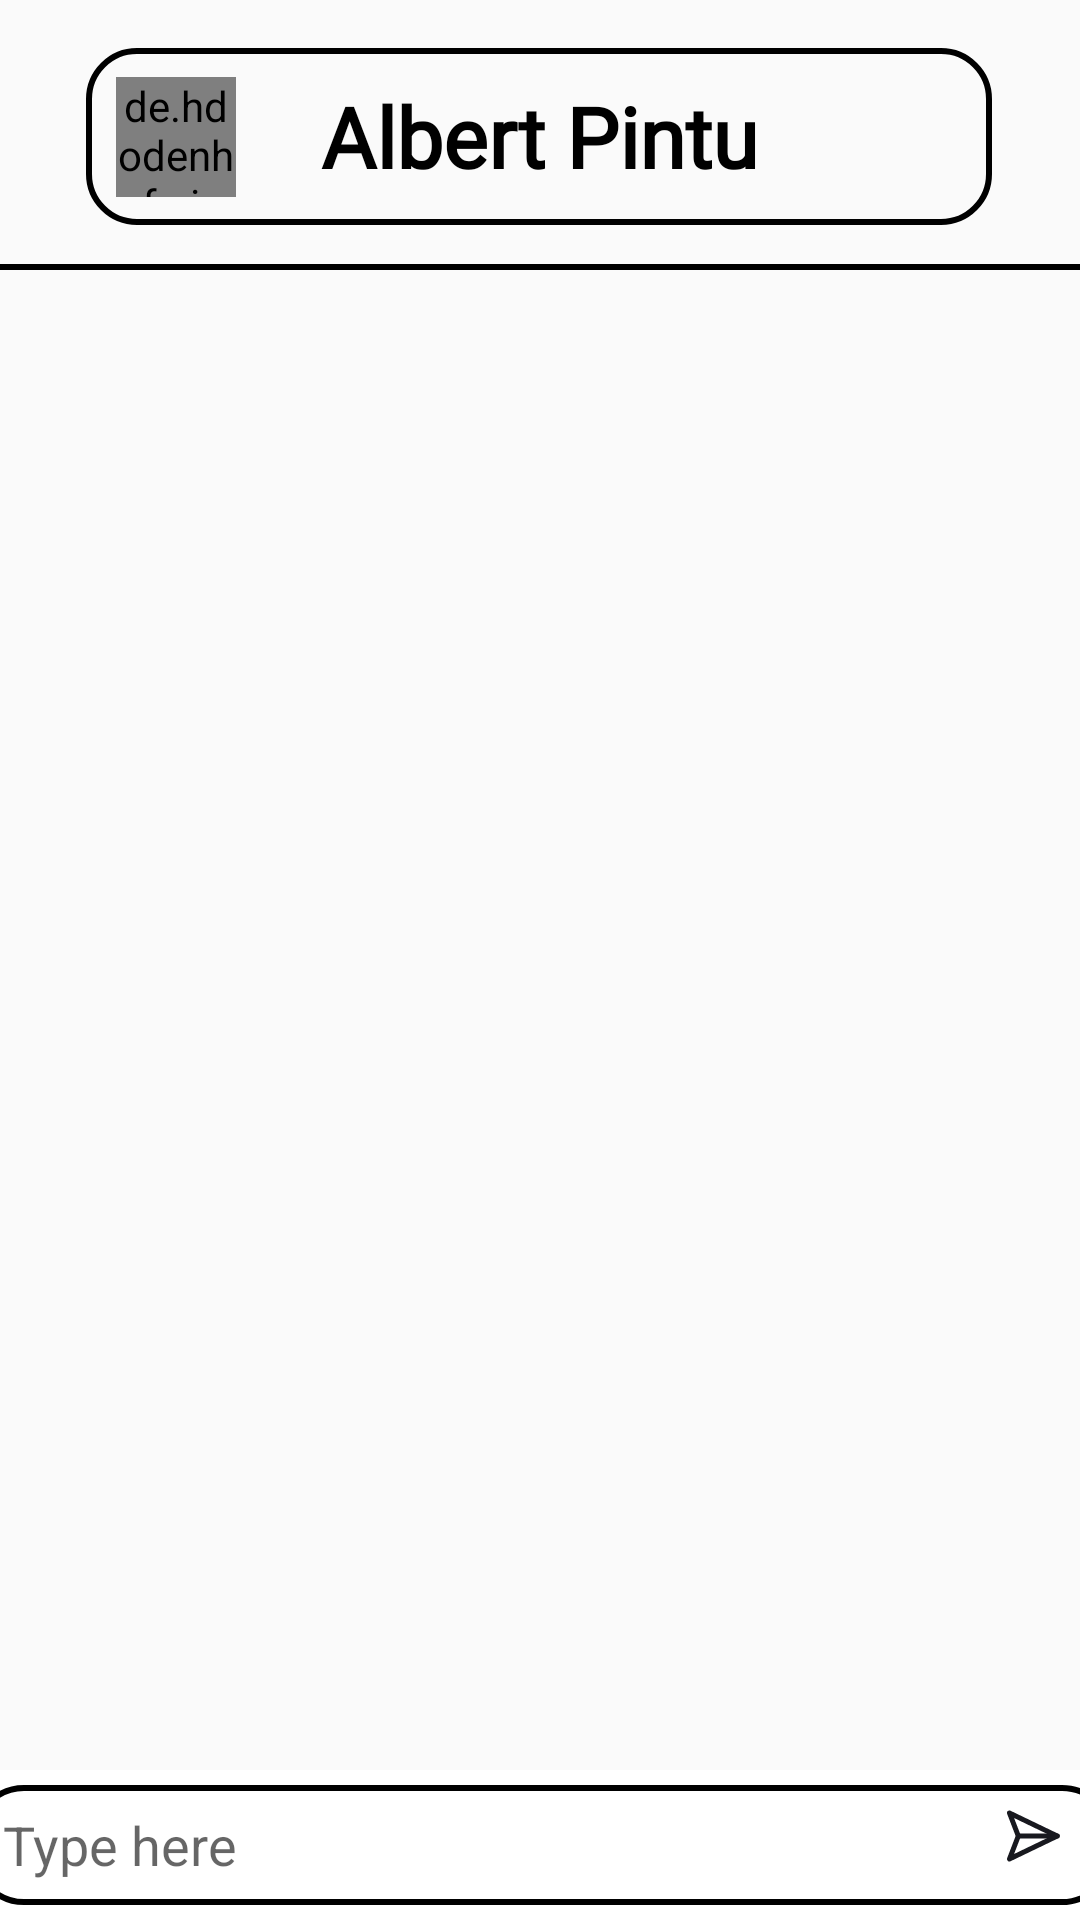

Icons on this 1080px x 1920px Android screen, each with the point to tap as point (x, y):
sendbutton: point (1033, 1836)
